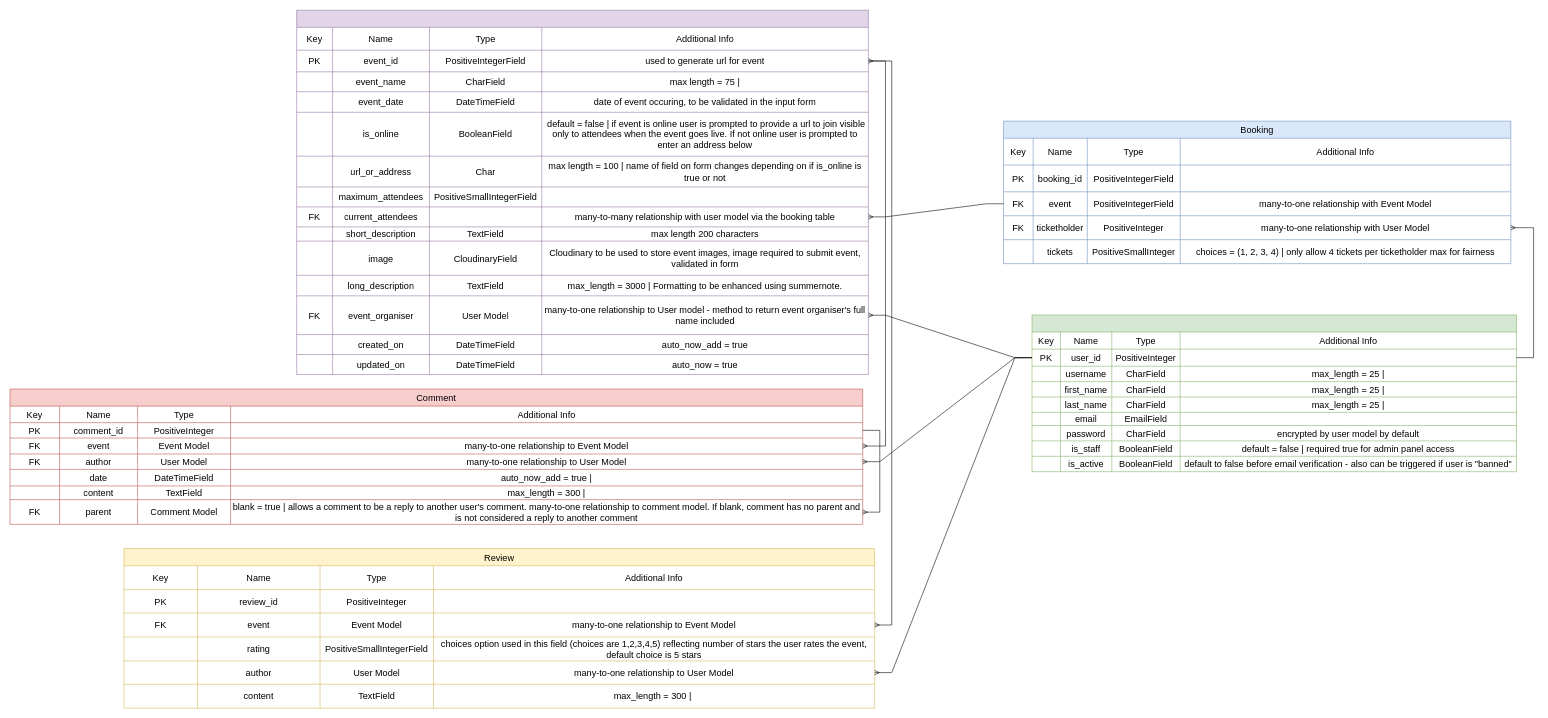
This 1548x718 diagram has some shape labels left out. Each missing label, with the box of its shape:
Event (models.Event): (296, 10, 868, 374)
User (Default Django models.User - relevant fields only): (1031, 314, 1516, 472)
